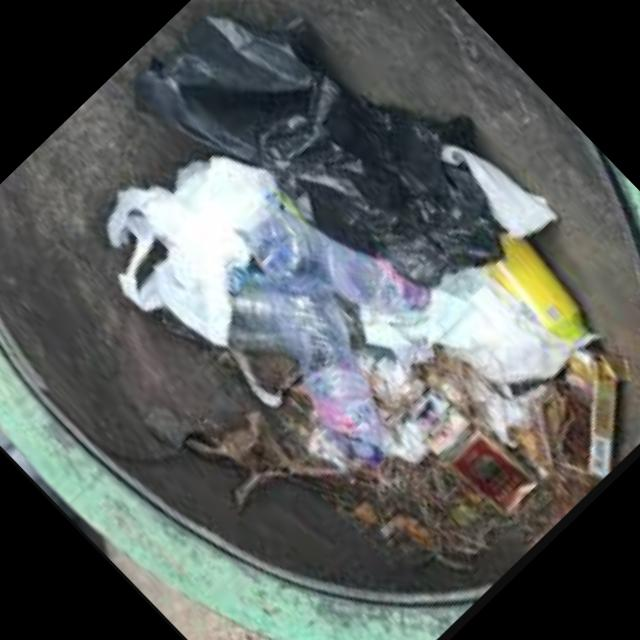GelasPlastik: (202, 240, 370, 410)
